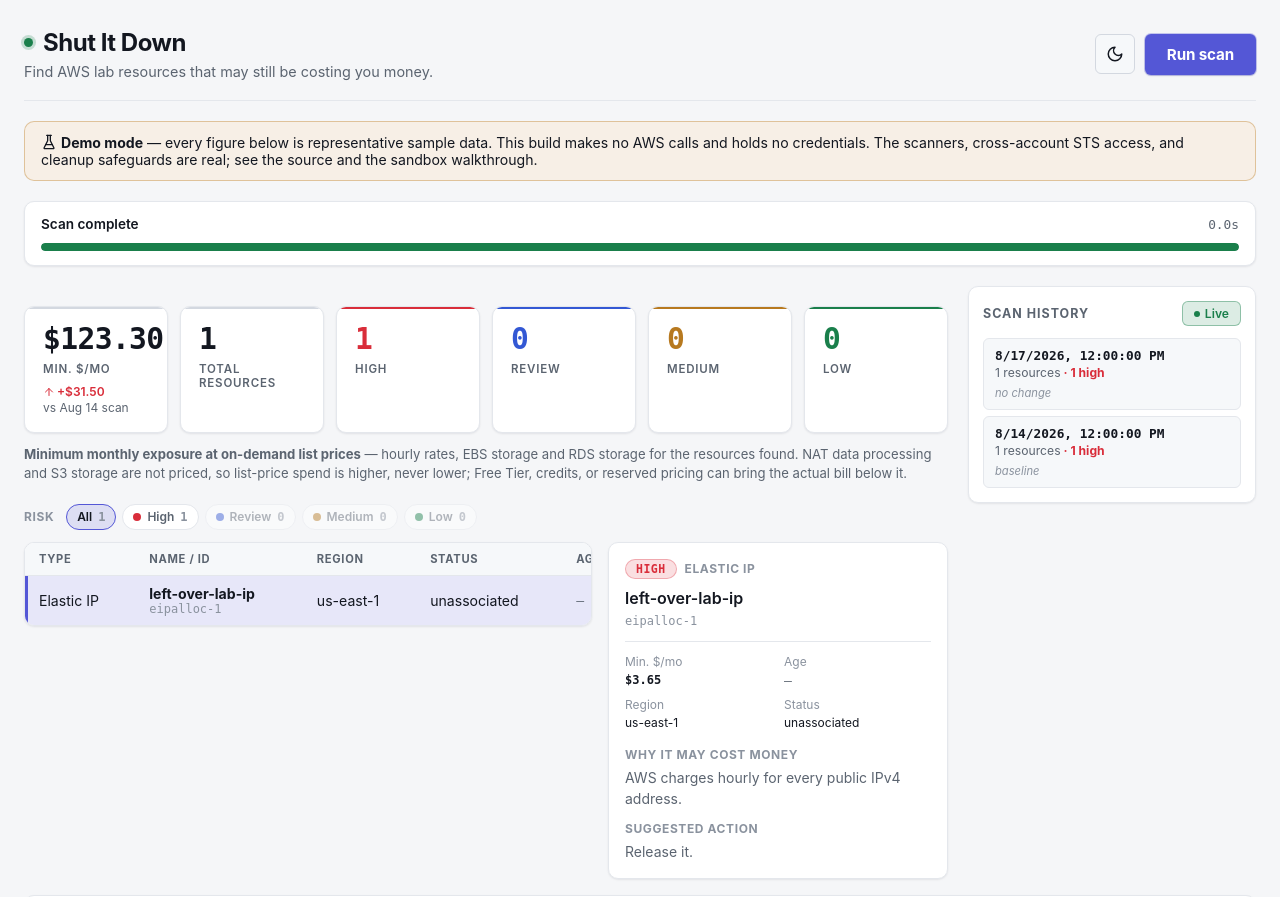
Test case: Dashboard Min. $/mo tile › does not compare a saved scan that could not read everything, reopened from history
Click the button "8/17/2026, 12:00:00 PM 1 resources · 1 high no change" at (1112, 374), box [983,338,1241,410]
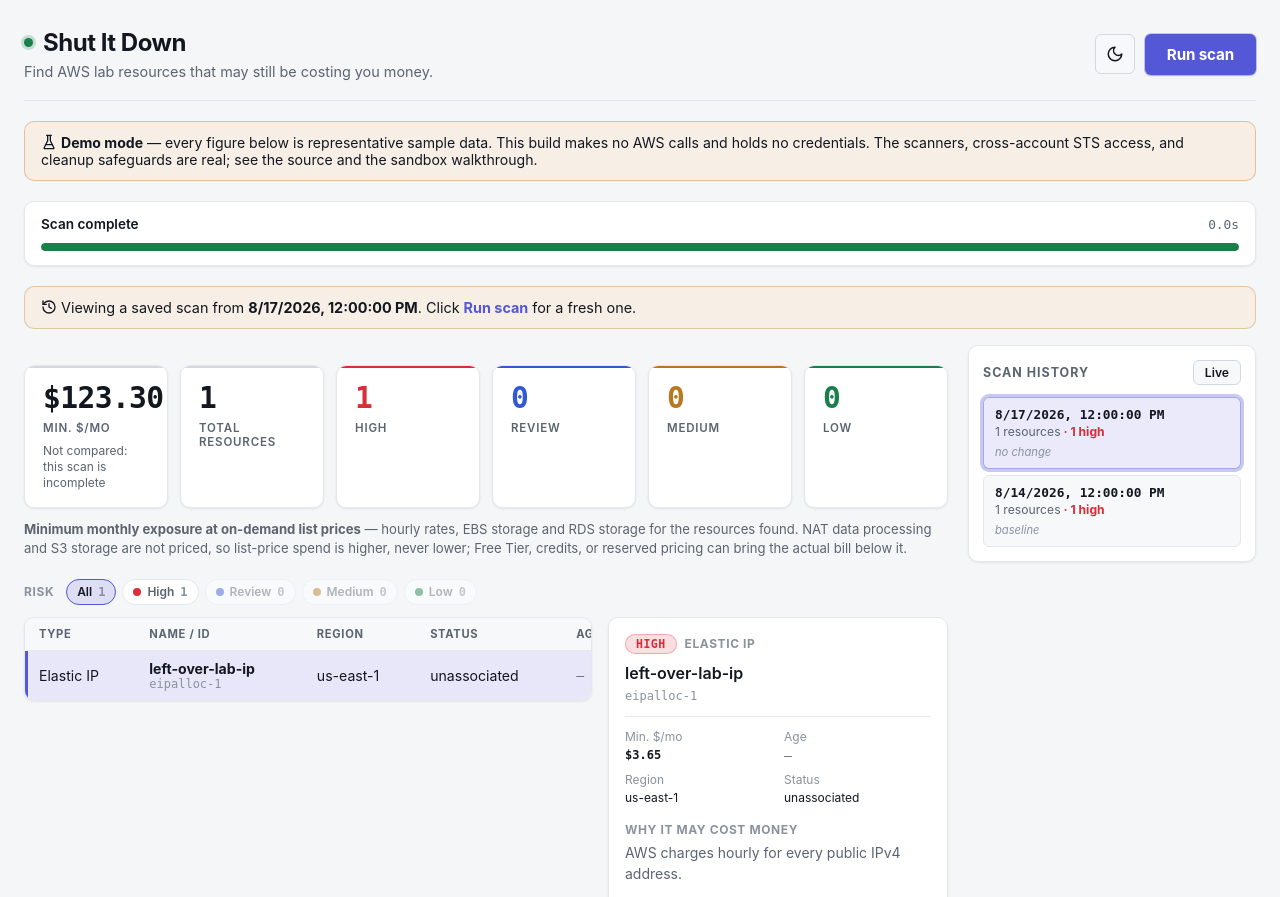
expect the text "Not compared: this scan is incomplete" is shown: met, box [43,443,127,490]
